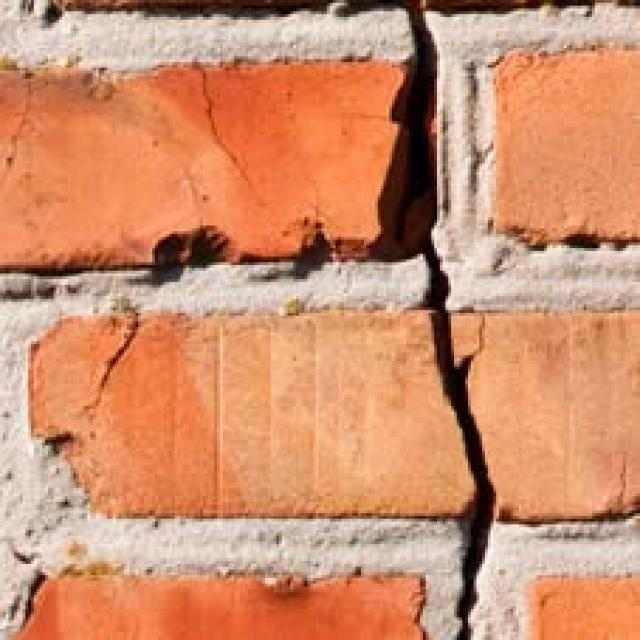Crack: (321, 0, 579, 640)
